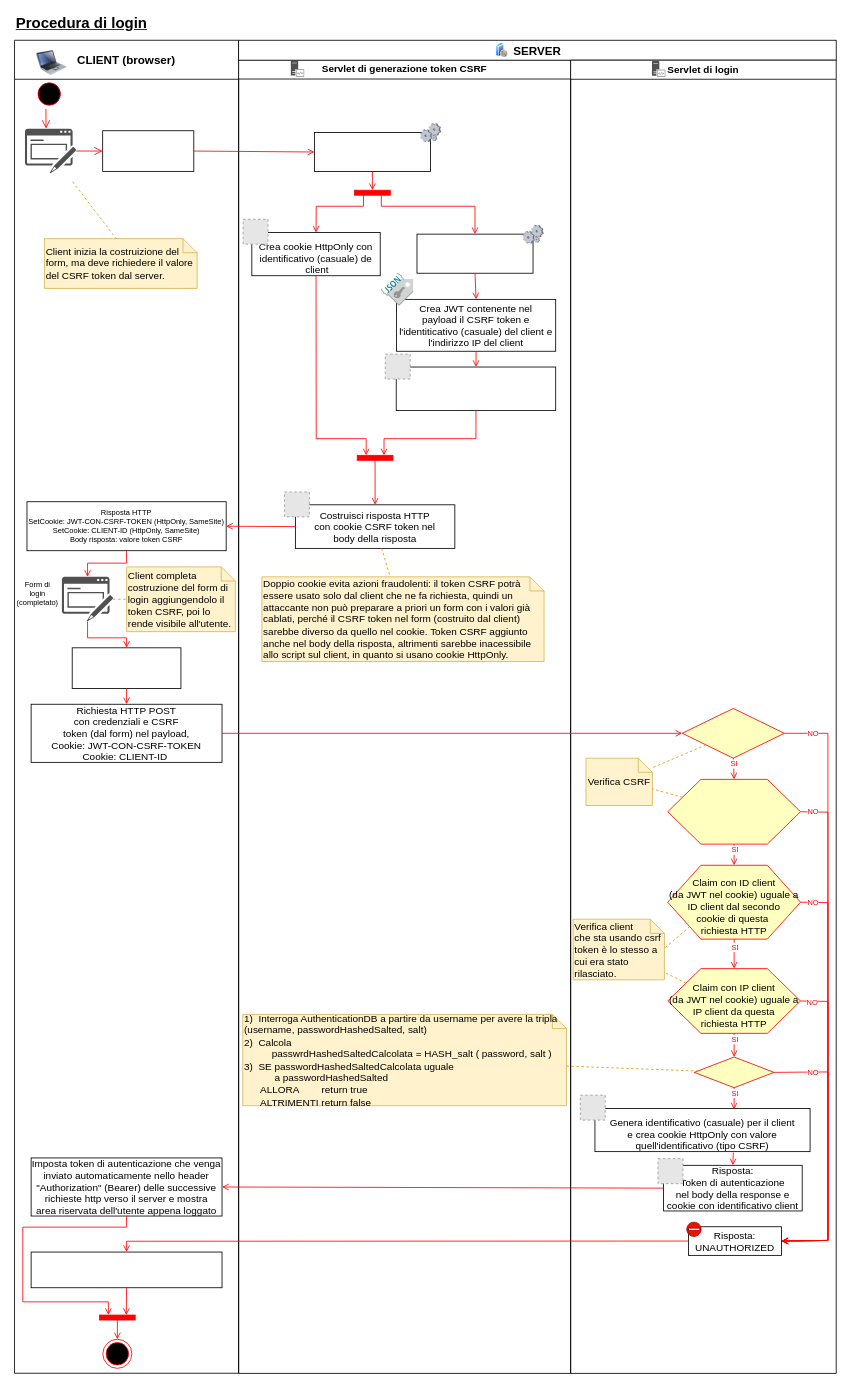
Image size: 854x1388. Some labels were removed from this diagram. Grey dashed boxes stand in for pictures. Each missing label, with the centre of its shape:
Claim con CSRF token (da JWT nel cookie) uguale a CSRF dal form: the point at 734,811
Crea cookie HttpOnly con JWT: the point at 475,388
credenziali valide: the point at 733,1072
Form login: the point at 50,150
Genera CSRF token (casuale): the point at 474,253
Genera identificativo casuale per il client: the point at 372,152
Richiesta HTTP GET token CSRF: the point at 148,150
Ripresenta il form di login, token CSRF resta lo stesso.: the point at 126,1269
token JWT nel cookie è valdo: the point at 732,733
Utente inserisce le credenziali nel form di login: the point at 126,667
